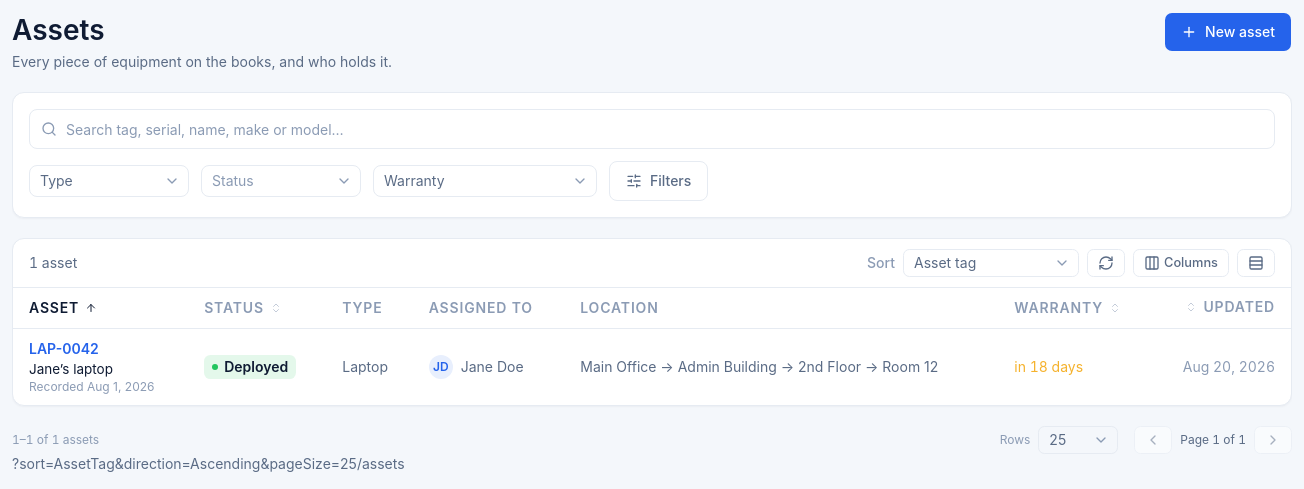
AssetsPage › reverses the ordering when the sorted column is clicked again
Check: the button "LAP-0042" is shown, box [29,338,99,358]
Click the button "Asset" at (63, 308), box [29,298,97,318]
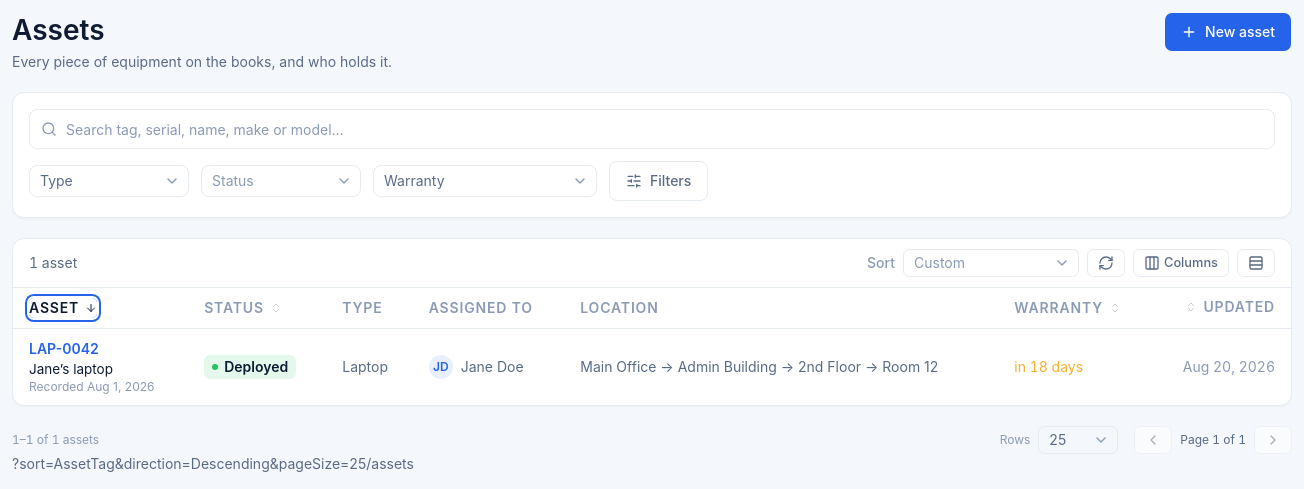
Check: the text with test id "address" shows "direction=Descending", box [12,454,366,472]
